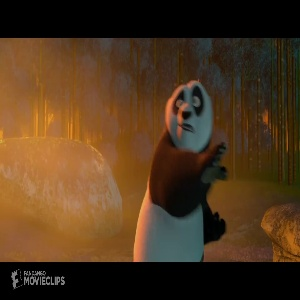po: (134, 77, 229, 261)
